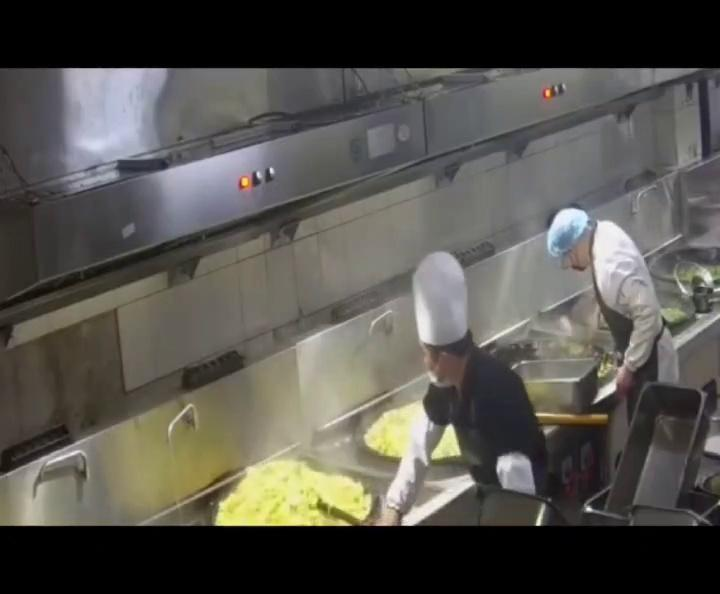gloves: (547, 207, 589, 260)
mask: (421, 344, 464, 389)
